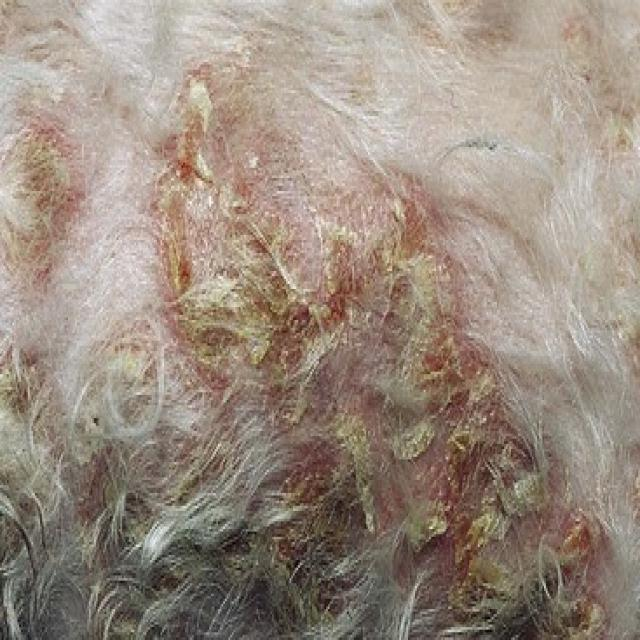fungal infection: (253, 243, 534, 640), (71, 339, 213, 599), (140, 77, 233, 314), (0, 104, 85, 280), (536, 488, 614, 640), (1, 330, 57, 427)
